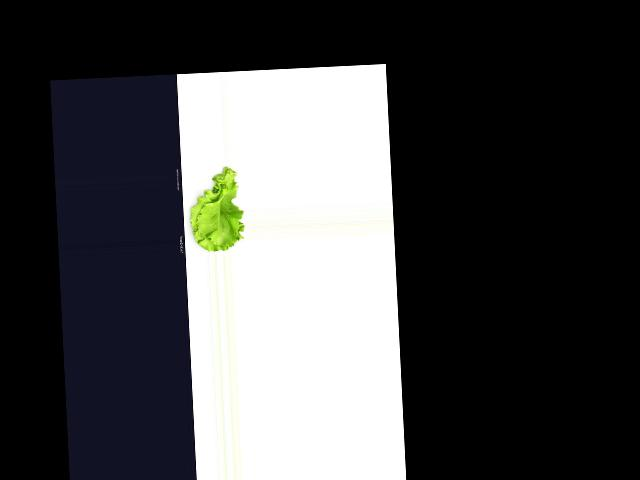lettuce: (183, 167, 246, 252)
